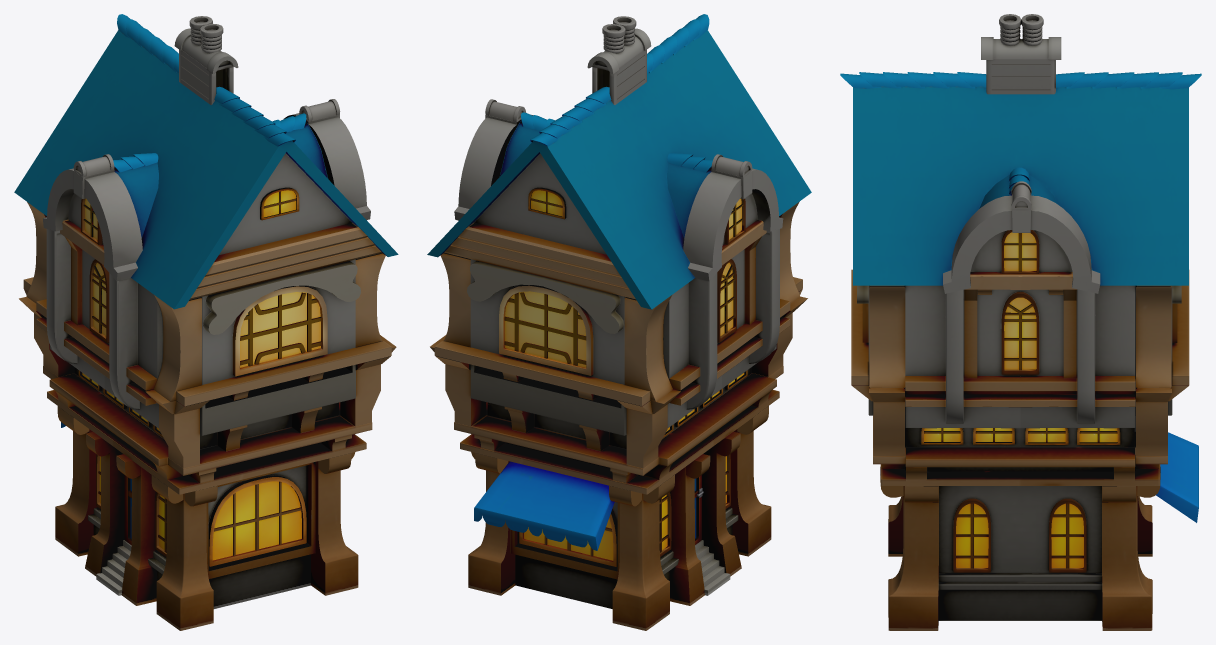
File: house.fbx
3 views of the same model, side by side, from view 1: azimuth 30°, elevation 25°; view 2: azimuth 150°, elevation 25°; view 3: azimuth 270°, elevation 25° (orthographic). The views are drawn at different scales.
Parts seen in each view (by area): view 1: Object_6, Object_3, Object_4, Object_5; view 2: Object_6, Object_3, Object_4, Object_5; view 3: Object_6, Object_3, Object_5, Object_4.
Boxes of the visible parts, x1=… form: Object_6: x1=19, y1=14, x2=395, y2=630; Object_3: x1=14, y1=30, x2=398, y2=595; Object_4: x1=23, y1=16, x2=396, y2=605; Object_5: x1=24, y1=17, x2=391, y2=595; Object_6: x1=430, y1=14, x2=807, y2=630; Object_3: x1=427, y1=30, x2=811, y2=595; Object_4: x1=430, y1=16, x2=802, y2=605; Object_5: x1=435, y1=17, x2=802, y2=595; Object_6: x1=840, y1=19, x2=1201, y2=630; Object_3: x1=853, y1=64, x2=1188, y2=630; Object_5: x1=851, y1=15, x2=1198, y2=620; Object_4: x1=851, y1=14, x2=1198, y2=526.
Bounding box in the file's own units: 116 × 232 × 134.
1 material, 1 textured.
